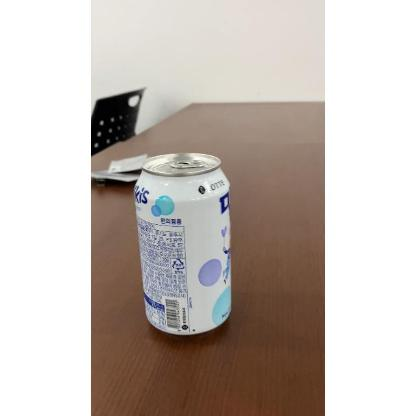Can: (132, 150, 230, 338)
